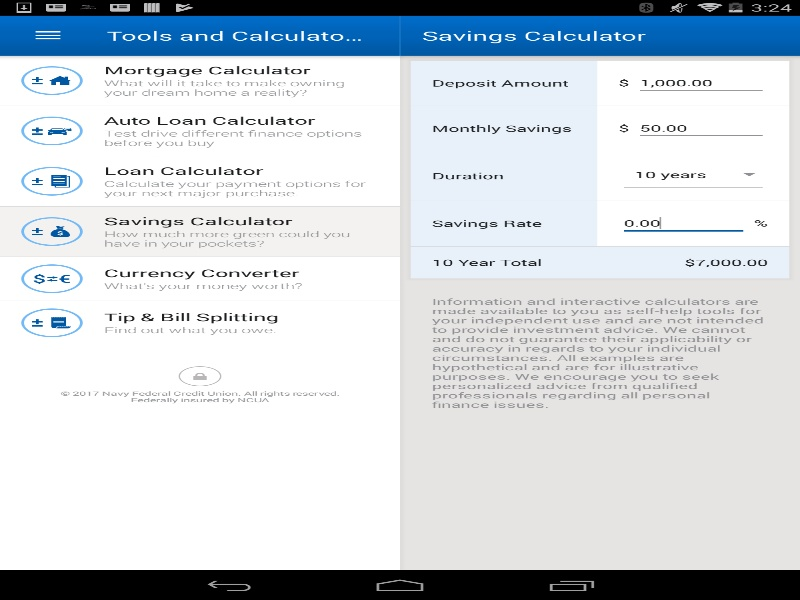Button: (10, 15, 85, 55)
Input: (634, 70, 768, 95), (634, 115, 768, 140), (618, 210, 748, 235)
